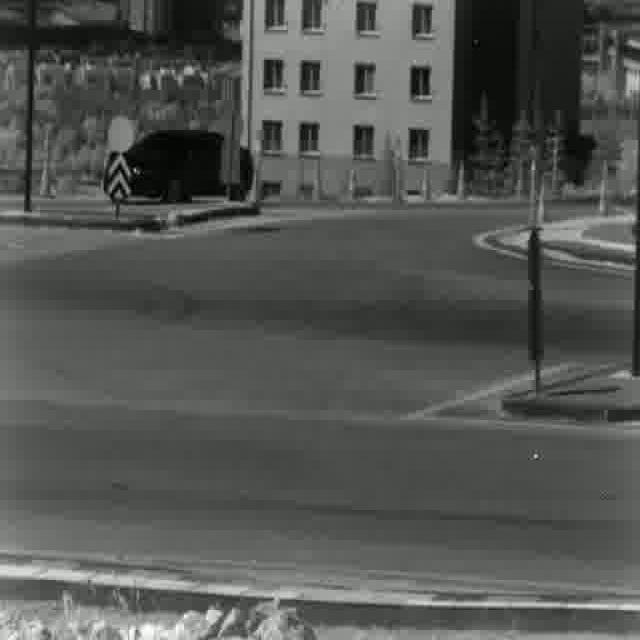Car: (107, 126, 253, 207)
